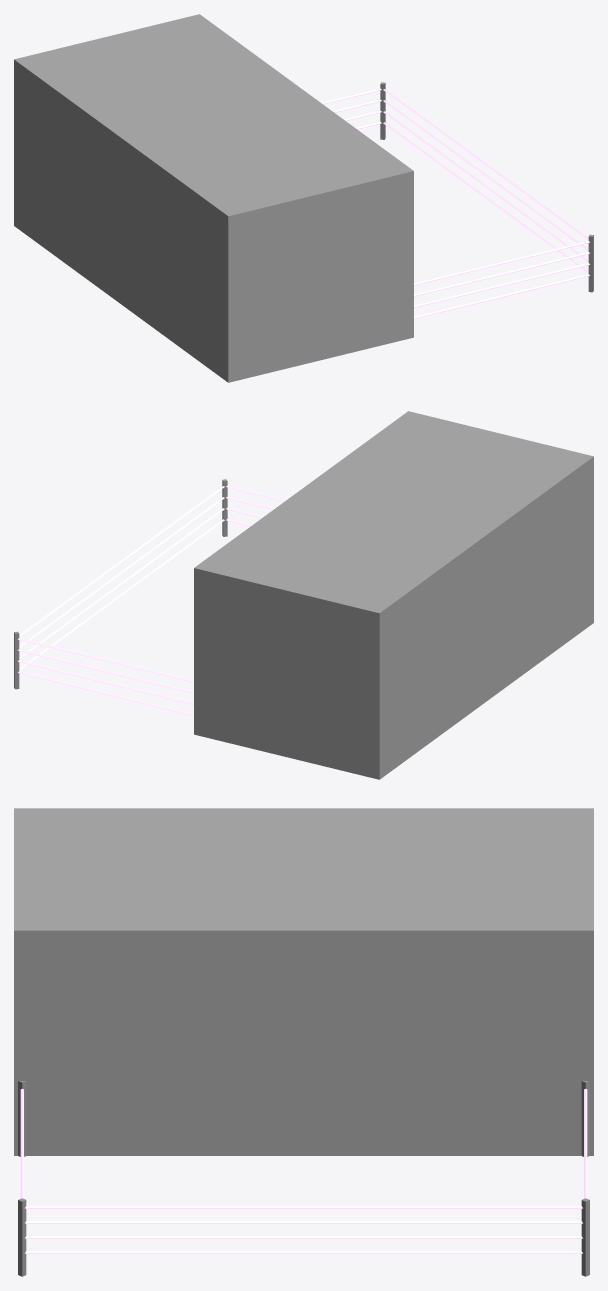
The model's file is Edificio_02.fbx.
The picture shows the model from 3 angles, top to bottom: view 1: azimuth 30°, elevation 25°; view 2: azimuth 150°, elevation 25°; view 3: azimuth 270°, elevation 25°; orthographic projection. The views are drawn at different scales.
Parts seen in each view (by area): view 1: Edificio_02, Barre.002, Barre, Barre.001; view 2: Edificio_02, Barre.002, Barre.001, Barre; view 3: Edificio_02, Barre.002, Sostegno.002, Sostegno.005.
Boxes of the visible parts, x1,y1,x2,y2 form: Edificio_02: [14, 14, 413, 382]; Barre.002: [383, 89, 588, 273]; Barre: [414, 241, 589, 318]; Barre.001: [321, 88, 381, 129]; Edificio_02: [194, 411, 593, 779]; Barre.002: [19, 486, 224, 670]; Barre.001: [18, 638, 193, 715]; Barre: [226, 485, 286, 526]; Edificio_02: [14, 808, 593, 1155]; Barre.002: [25, 1206, 582, 1253]; Sostegno.002: [18, 1198, 26, 1276]; Sostegno.005: [581, 1198, 589, 1276].
Bounding box in the file's own units: 6.95 × 7 × 3.
